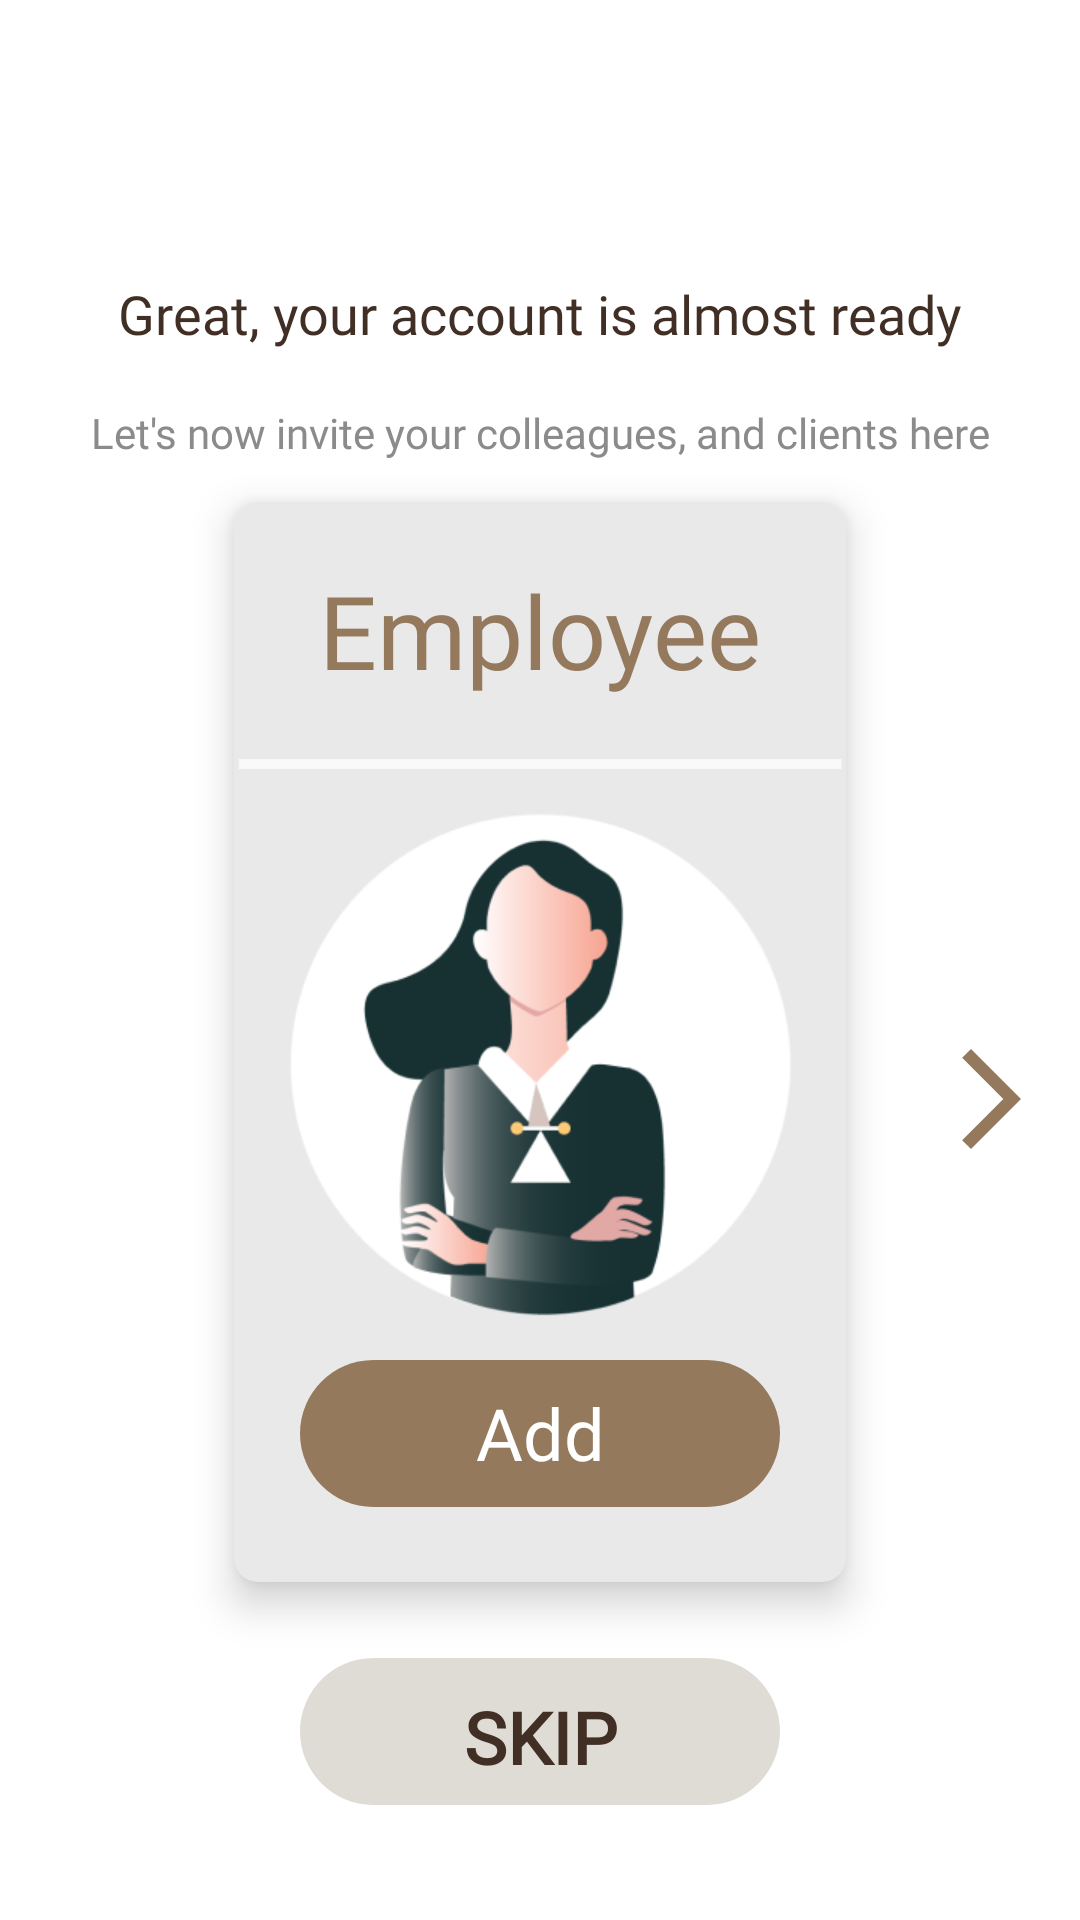

Screen size 1080*1920. Icon name, then its center in pixels as (x,y):
arrow forward: (991,1099)
